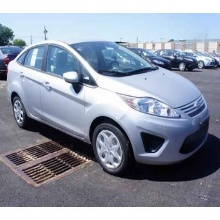no damage: (6, 40, 210, 174)
